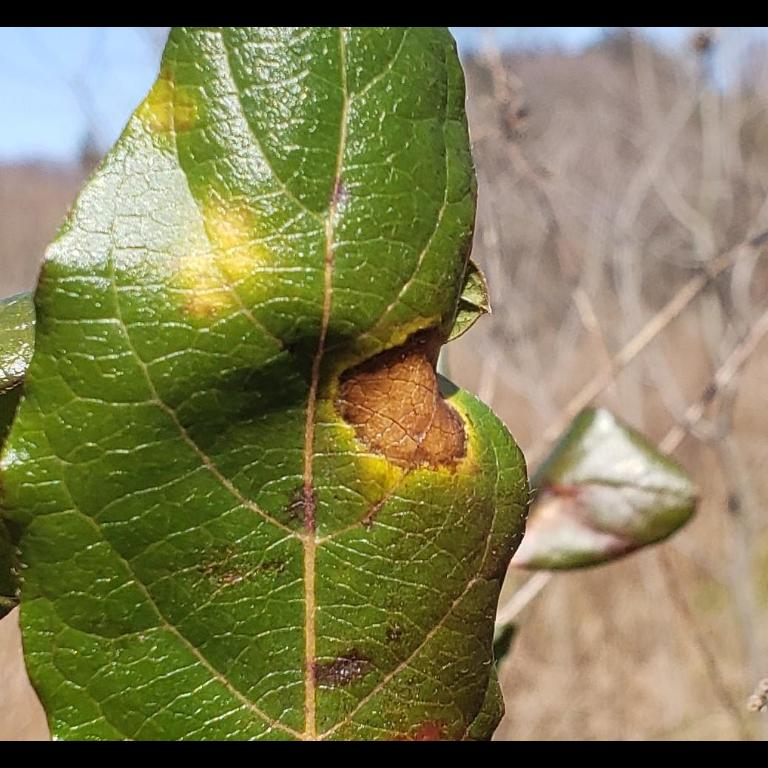blight: (320, 268, 484, 514)
